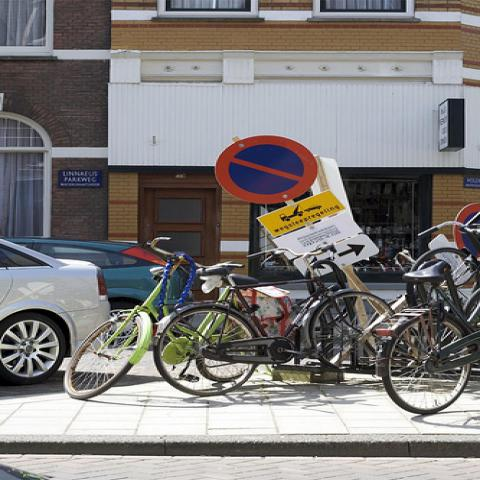car: (0, 240, 109, 382), (14, 244, 179, 306)
